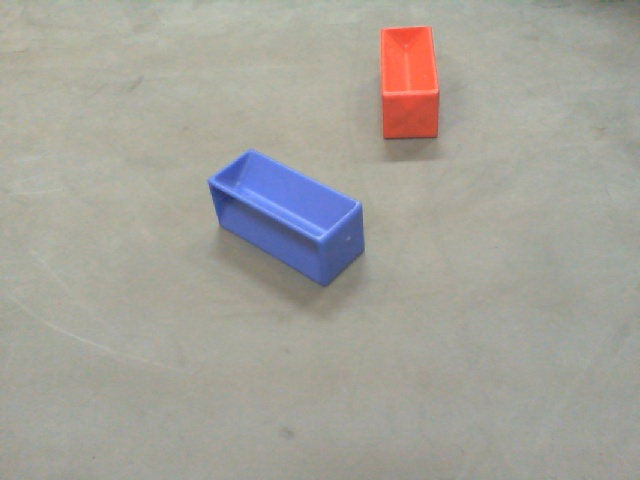BlueSample: (205, 144, 369, 289)
RedSample: (379, 24, 444, 144)
